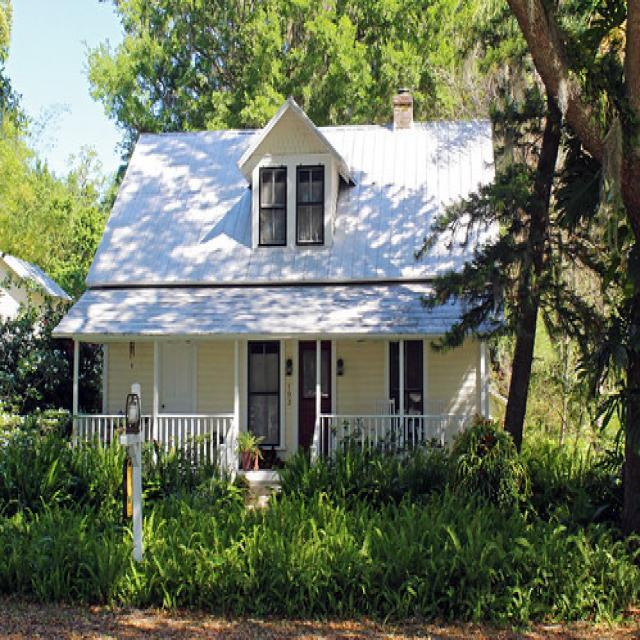Normal_building: (53, 85, 509, 511)
